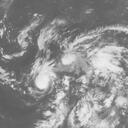cyclone: (31, 34, 97, 97)
